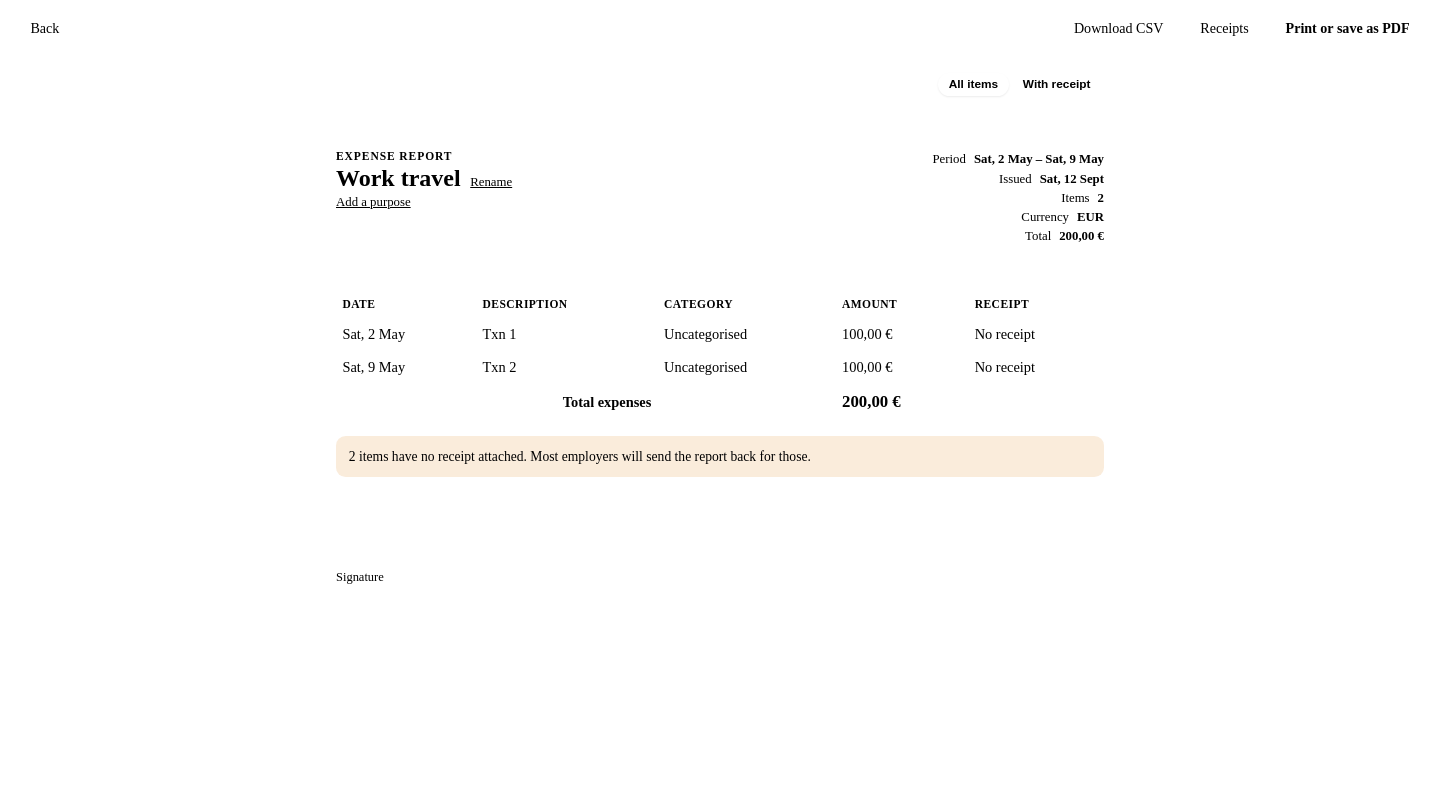
Test case: ExpenseReportView — filtering to items with a receipt › says so, rather than rendering an empty sheet, when nothing has a receipt yet
Click the radio button labelled "With receipt" at (1057, 84), box left=1012, top=73, right=1102, bottom=96
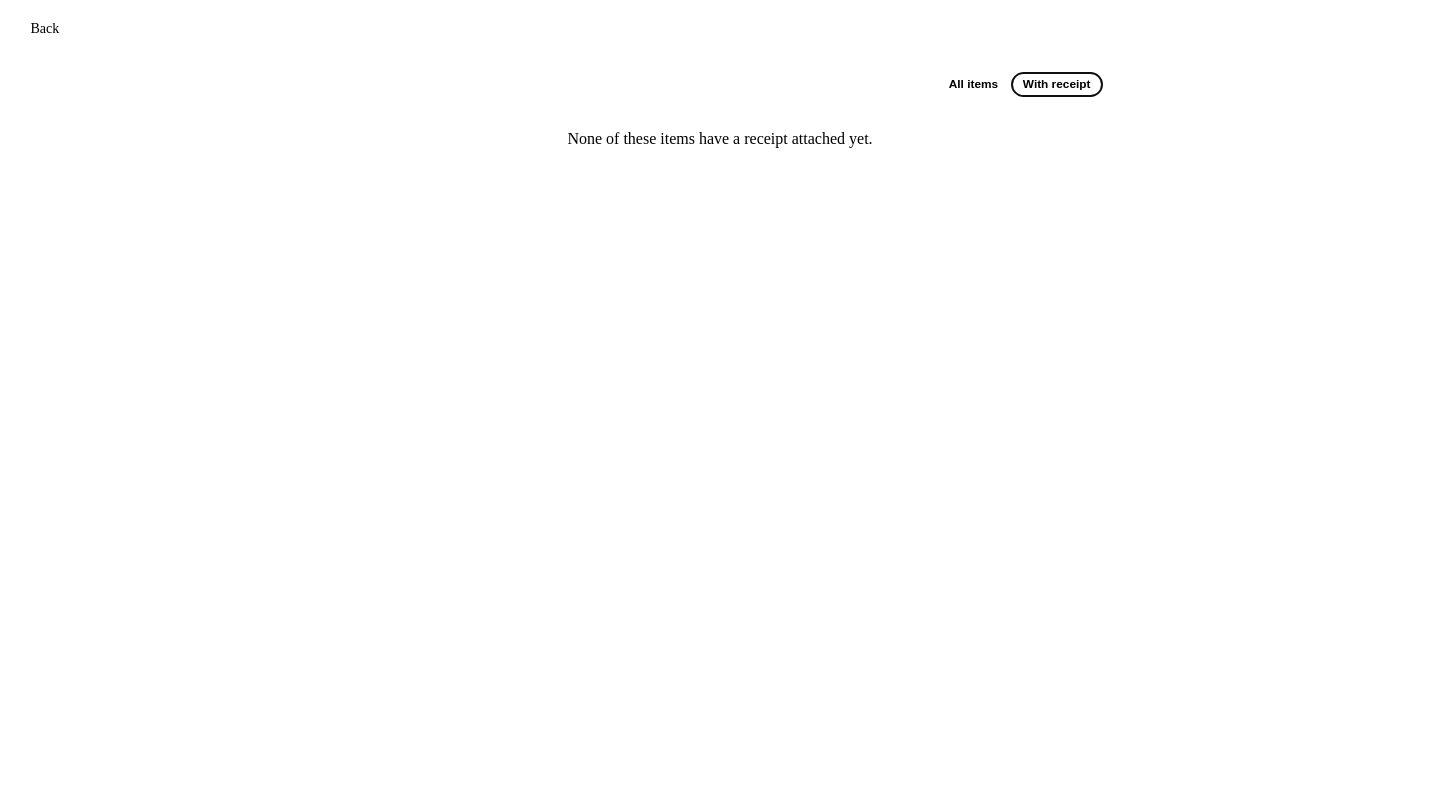
Expected: the text "None of these items have a receipt attached yet." is shown, left=567, top=130, right=873, bottom=147
Expected: the button "Download CSV" is gone
